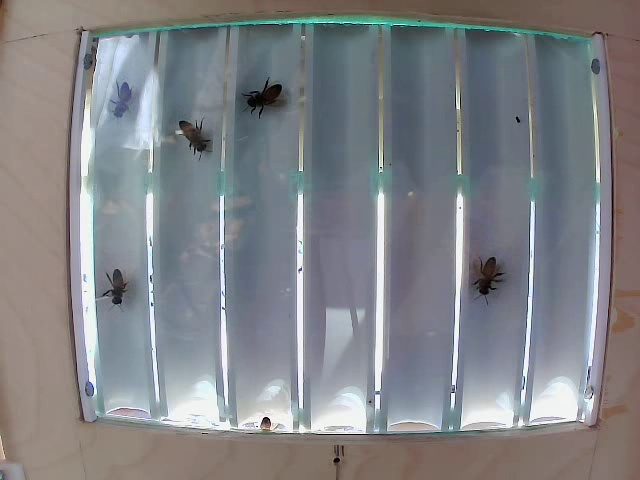bee: (238, 89, 299, 129), (109, 256, 149, 314), (477, 262, 509, 315), (174, 126, 216, 162)
